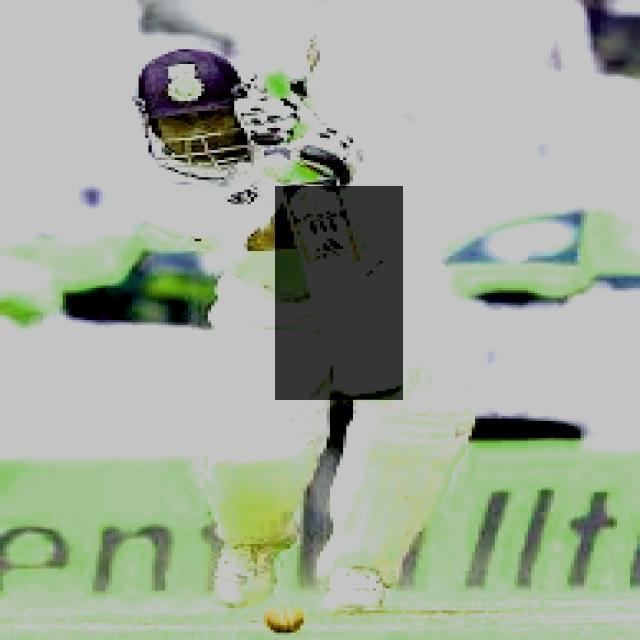bat: (275, 185, 402, 402)
toe: (335, 384, 401, 398)
